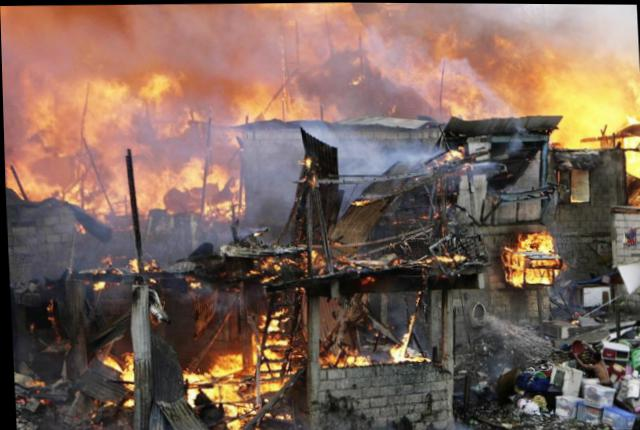fire: (247, 6, 636, 156), (91, 287, 434, 423), (1, 58, 253, 223), (494, 226, 564, 295)
